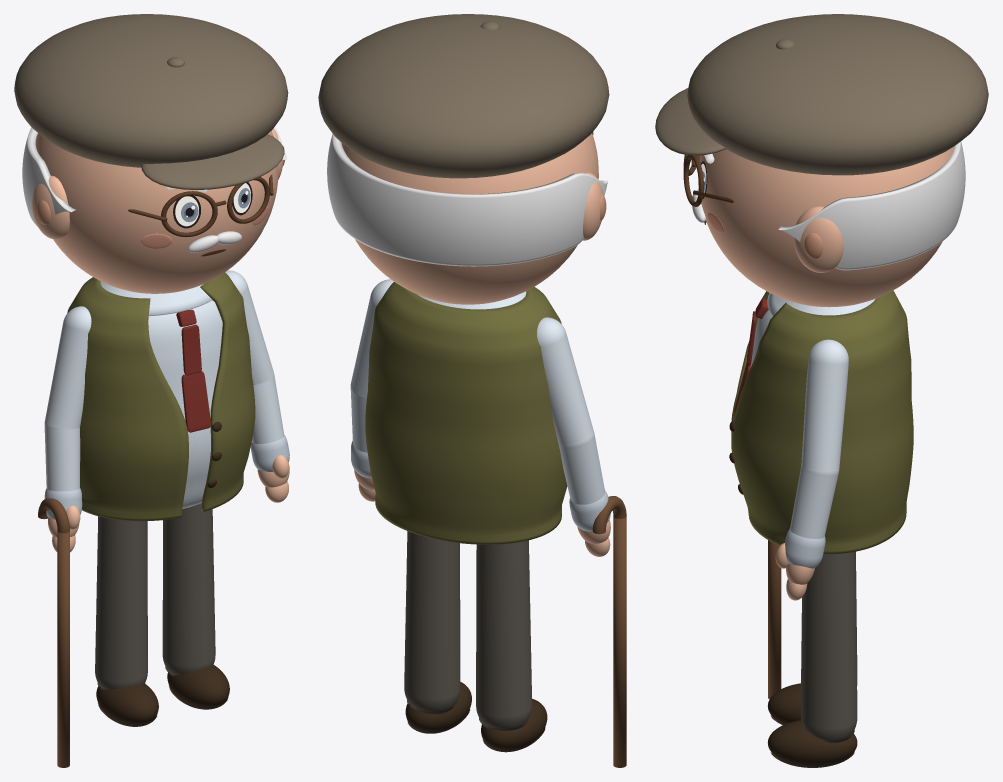
File: opa.glb
The picture shows the model from 3 angles, left to right: view 1: azimuth 30°, elevation 25°; view 2: azimuth 150°, elevation 25°; view 3: azimuth 270°, elevation 25°; orthographic projection. The views are drawn at different scales.
Parts seen in each view (by area): view 1: opa_pet, opa_vest, opa_hoofd, opa_been_R, opa_been_L, opa_romp, opa_pet_klep, opa_bovenarm_R, opa_wandelstok, opa_onderarm_R, opa_schoen_R, opa_schoen_L (+12 smaller); view 2: opa_vest, opa_pet, opa_haar, opa_hoofd, opa_been_R, opa_been_L, opa_bovenarm_R, opa_wandelstok, opa_onderarm_R, opa_schoen_R, opa_bovenarm_L, opa_schoen_L (+5 smaller); view 3: opa_pet, opa_vest, opa_hoofd, opa_haar, opa_been_L, opa_bovenarm_L, opa_pet_klep, opa_schoen_L, opa_onderarm_L, opa_wandelstok, opa_oor_L, opa_manchet_L (+3 smaller).
Boxes of the visible parts, bbox=[...] form: opa_pet: bbox=[14, 14, 288, 167]; opa_vest: bbox=[67, 272, 255, 521]; opa_hoofd: bbox=[35, 130, 278, 293]; opa_been_R: bbox=[95, 516, 147, 689]; opa_been_L: bbox=[162, 503, 215, 674]; opa_romp: bbox=[148, 300, 222, 508]; opa_pet_klep: bbox=[141, 134, 284, 189]; opa_bovenarm_R: bbox=[44, 306, 91, 429]; opa_wandelstok: bbox=[57, 531, 69, 767]; opa_onderarm_R: bbox=[44, 424, 80, 491]; opa_schoen_R: bbox=[96, 683, 158, 724]; opa_schoen_L: bbox=[167, 664, 229, 707]; opa_vest: bbox=[365, 282, 567, 544]; opa_pet: bbox=[318, 14, 609, 178]; opa_haar: bbox=[327, 134, 608, 266]; opa_hoofd: bbox=[341, 133, 598, 304]; opa_been_R: bbox=[476, 540, 532, 728]; opa_been_L: bbox=[404, 531, 460, 711]; opa_bovenarm_R: bbox=[537, 317, 593, 448]; opa_wandelstok: bbox=[613, 516, 626, 767]; opa_onderarm_R: bbox=[558, 434, 604, 504]; opa_schoen_R: bbox=[481, 698, 547, 749]; opa_bovenarm_L: bbox=[351, 279, 393, 398]; opa_schoen_L: bbox=[405, 682, 471, 731]; opa_pet: bbox=[687, 14, 988, 175]; opa_vest: bbox=[731, 290, 913, 554]; opa_hoofd: bbox=[698, 146, 954, 307]; opa_haar: bbox=[778, 141, 965, 270]; opa_been_L: bbox=[801, 551, 857, 741]; opa_bovenarm_L: bbox=[801, 339, 848, 476]; opa_pet_klep: bbox=[655, 88, 725, 155]; opa_schoen_L: bbox=[767, 720, 857, 763]; opa_onderarm_L: bbox=[790, 466, 838, 538]; opa_wandelstok: bbox=[768, 540, 781, 698]; opa_oor_L: bbox=[793, 206, 843, 272]; opa_manchet_L: bbox=[785, 528, 825, 568].
Size of the model in its own units: 0.6894 by 1.81 by 0.7632.
